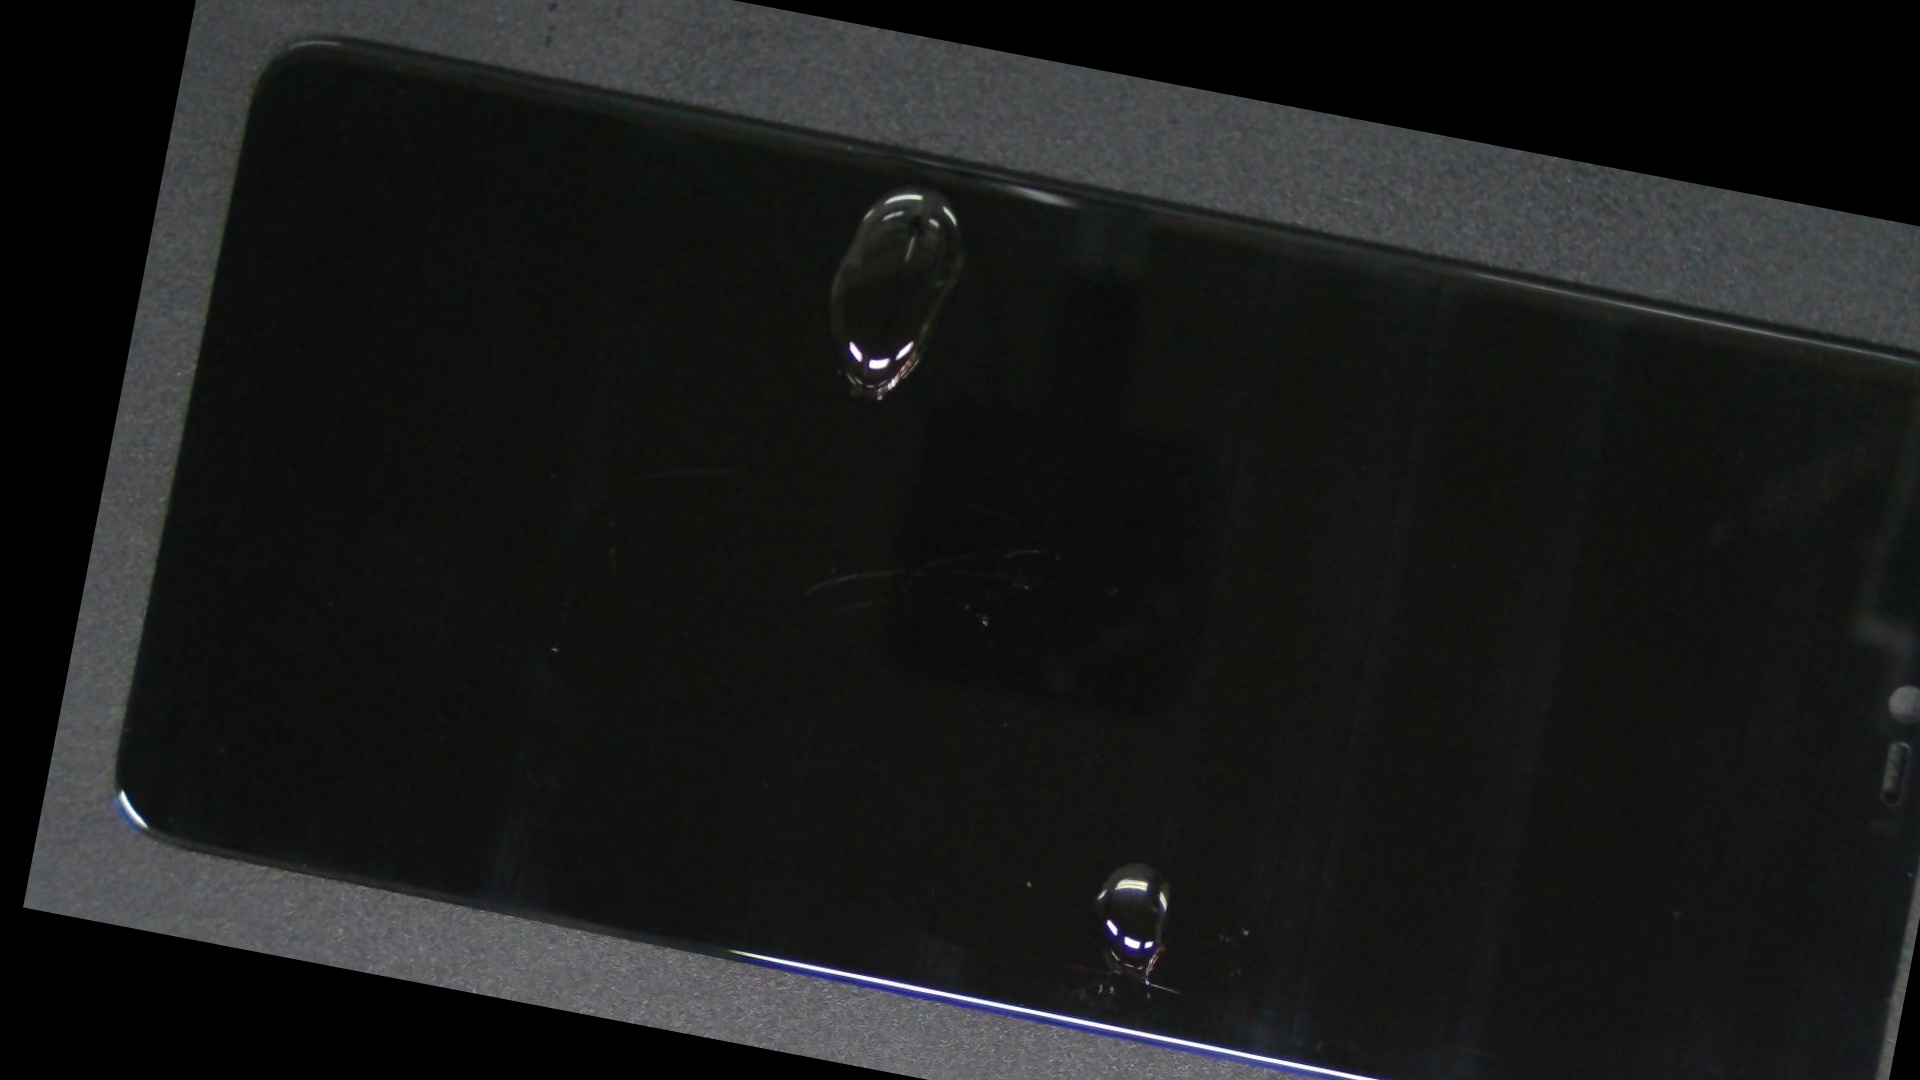oil: (562, 382, 1758, 1080), (545, 45, 1316, 332)
